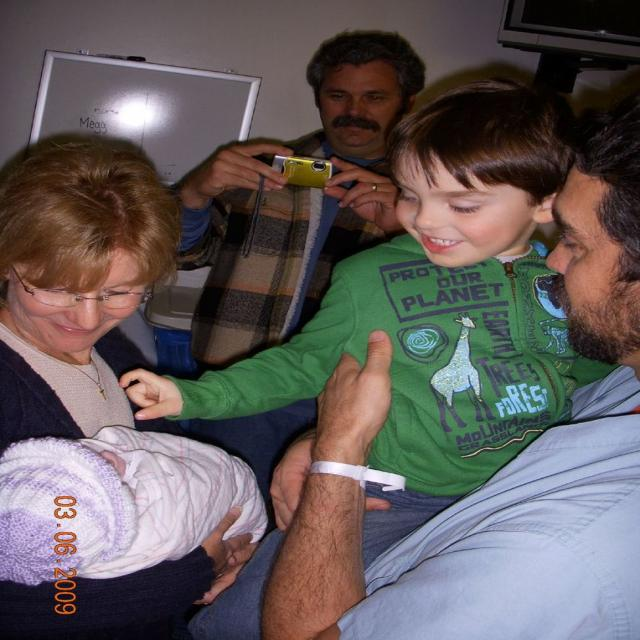Glasses: (15, 280, 159, 308)
